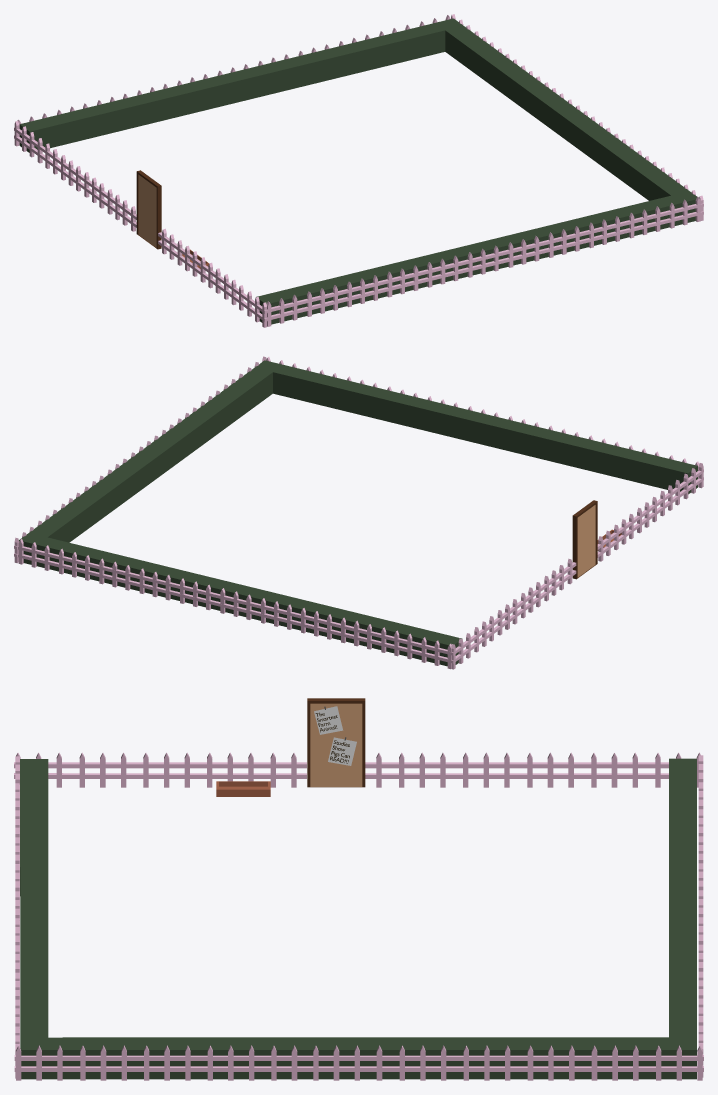
File: PigPen.glb
3 renders of one model, top to bottom at view 1: azimuth 30°, elevation 25°; view 2: azimuth 150°, elevation 25°; view 3: azimuth 270°, elevation 25°, orthographic. The views are drawn at different scales.
Visible parts, largest first — view 1: Bushes, Fences, Door, DoorFrame; view 2: Bushes, Fences, Door, DoorFrame; view 3: Bushes, Fences, Door, DoorFrame, ClayCube, Paper2, Paper1.
Boxes of the visible parts, left/top/right/bottom form: Bushes: left=19, top=18, right=696, bottom=324; Fences: left=14, top=14, right=703, bottom=327; Door: left=138, top=175, right=156, bottom=247; DoorFrame: left=136, top=170, right=161, bottom=249; Bushes: left=19, top=360, right=697, bottom=666; Fences: left=14, top=356, right=703, bottom=669; Door: left=577, top=505, right=595, bottom=577; DoorFrame: left=572, top=500, right=597, bottom=579; Bushes: left=20, top=758, right=696, bottom=1079; Fences: left=14, top=752, right=703, bottom=1080; Door: left=310, top=703, right=362, bottom=786; DoorFrame: left=307, top=698, right=365, bottom=787; ClayCube: left=216, top=781, right=270, bottom=796; Paper2: left=328, top=737, right=356, bottom=765; Paper1: left=314, top=706, right=343, bottom=734.
Bounding box in the file's own units: 81.29 × 11.26 × 80.38.
